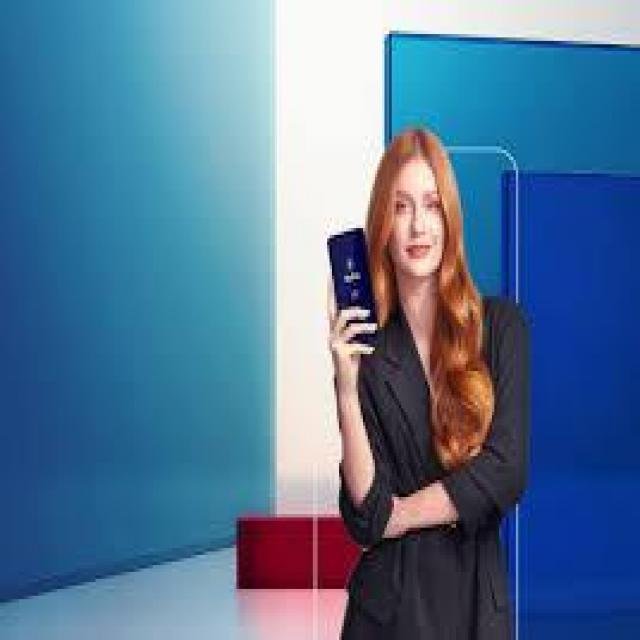person: (306, 95, 537, 637)
